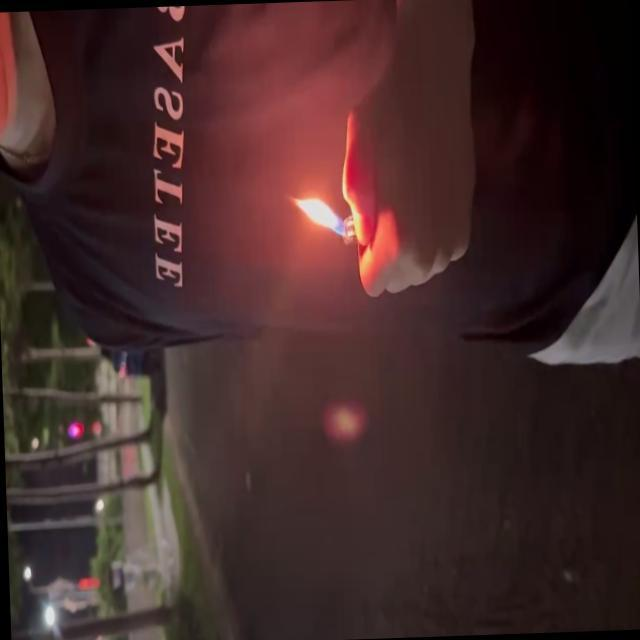Fire: (292, 195, 350, 245)
